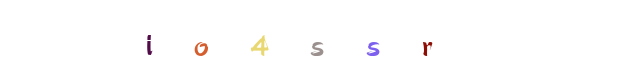4: (242, 0, 322, 80)
L: (178, 0, 258, 80)
O: (227, 0, 307, 80)
R: (333, 0, 413, 80)
S: (246, 0, 326, 80), (270, 0, 350, 80)
